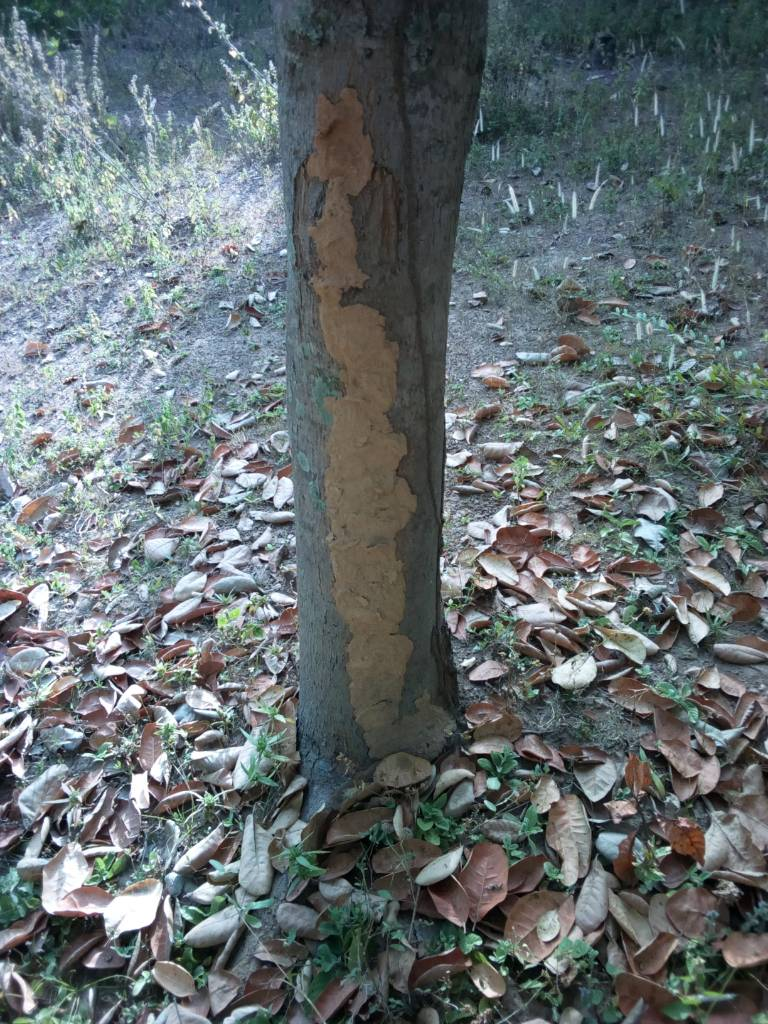Termites: (304, 102, 440, 728)
